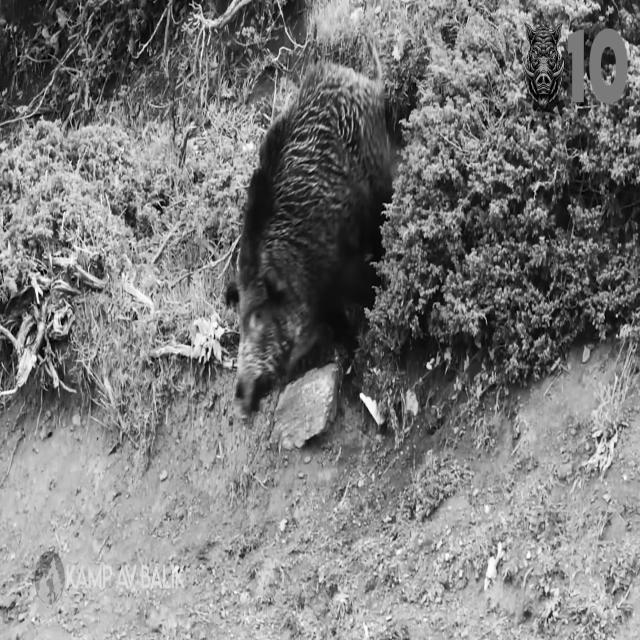boar: (226, 47, 392, 417)
